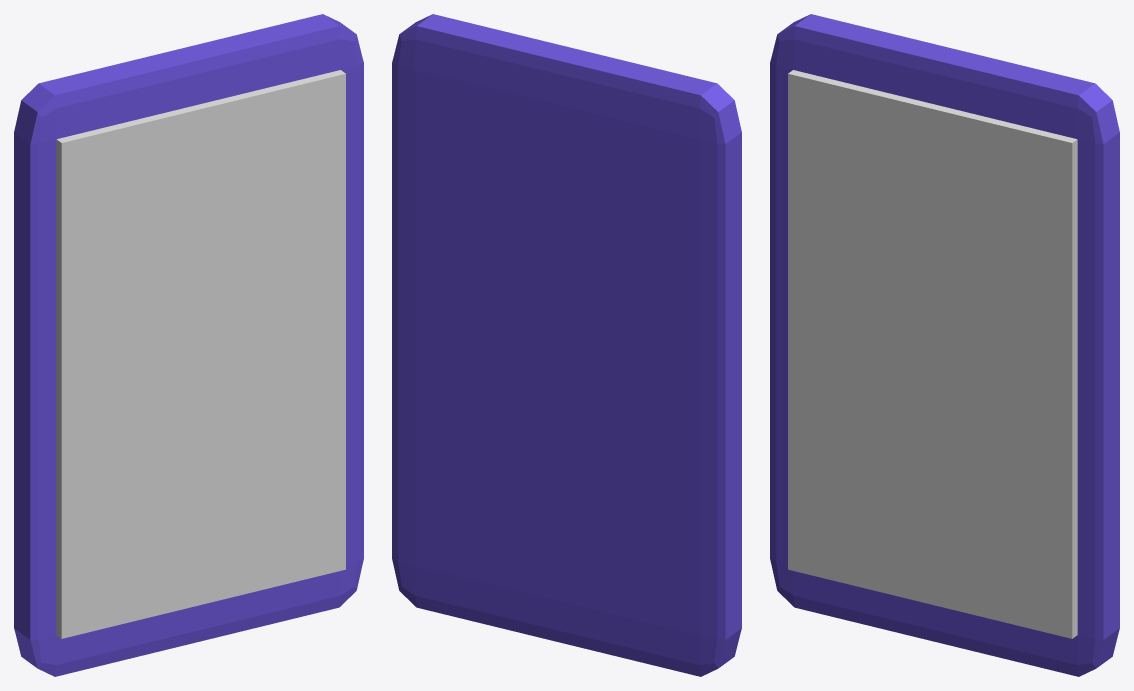
Rendered from scene6_phone.glb.
3 views of the same model, side by side, from view 1: azimuth 30°, elevation 25°; view 2: azimuth 150°, elevation 25°; view 3: azimuth 330°, elevation 25° (orthographic).
Visible parts, largest first — view 1: PHONE; view 2: PHONE; view 3: PHONE.
Boxes of the visible parts, x1,y1,x2,y2 form: PHONE: (14, 14, 363, 676); PHONE: (392, 14, 741, 676); PHONE: (770, 14, 1119, 676).
Bounding box in the file's own units: 0.3 × 0.5 × 0.0381.
